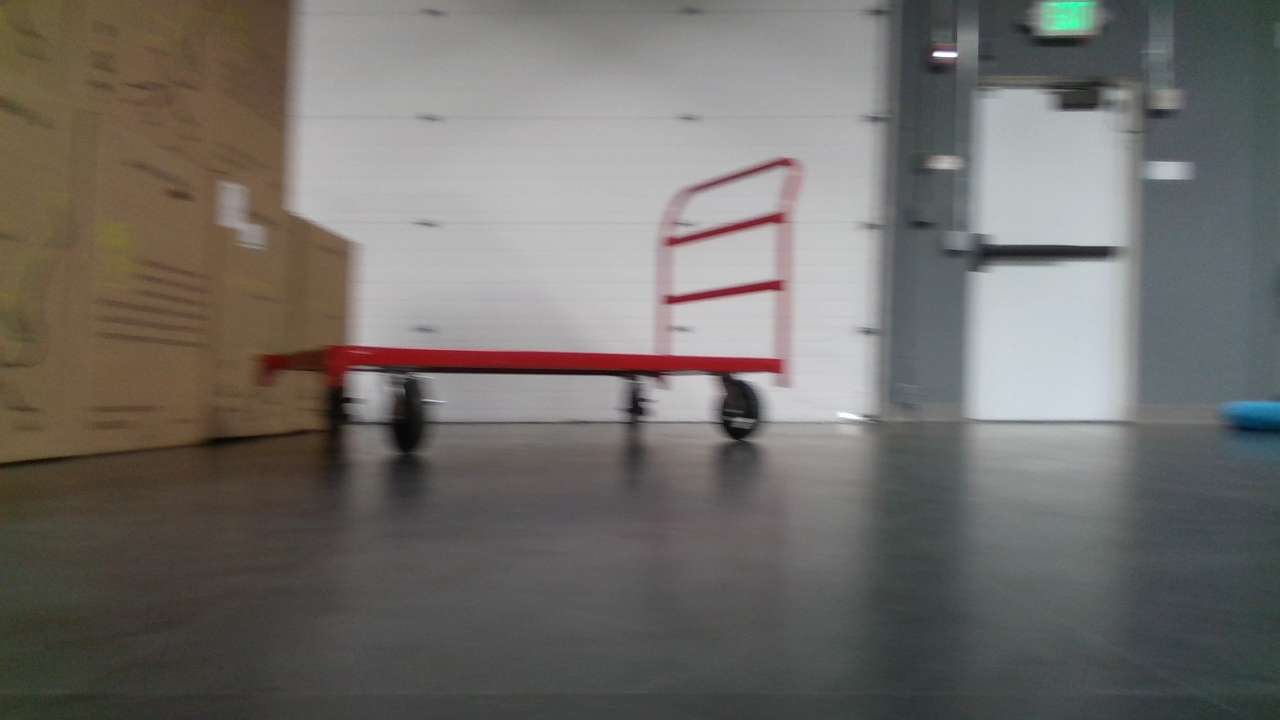Dolly: (258, 155, 806, 457)
Wheel: (384, 379, 442, 454), (711, 373, 765, 442), (316, 379, 360, 445), (620, 377, 654, 432)
